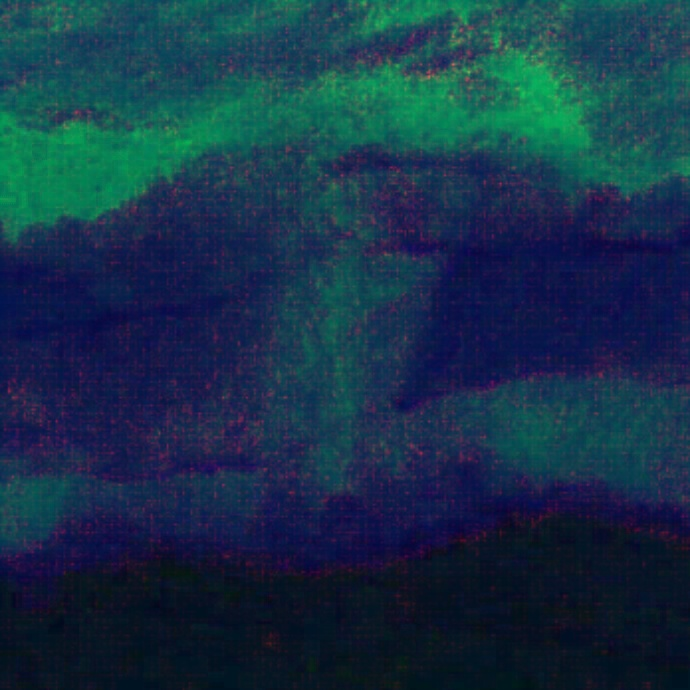rip_current: (229, 108, 462, 512)
